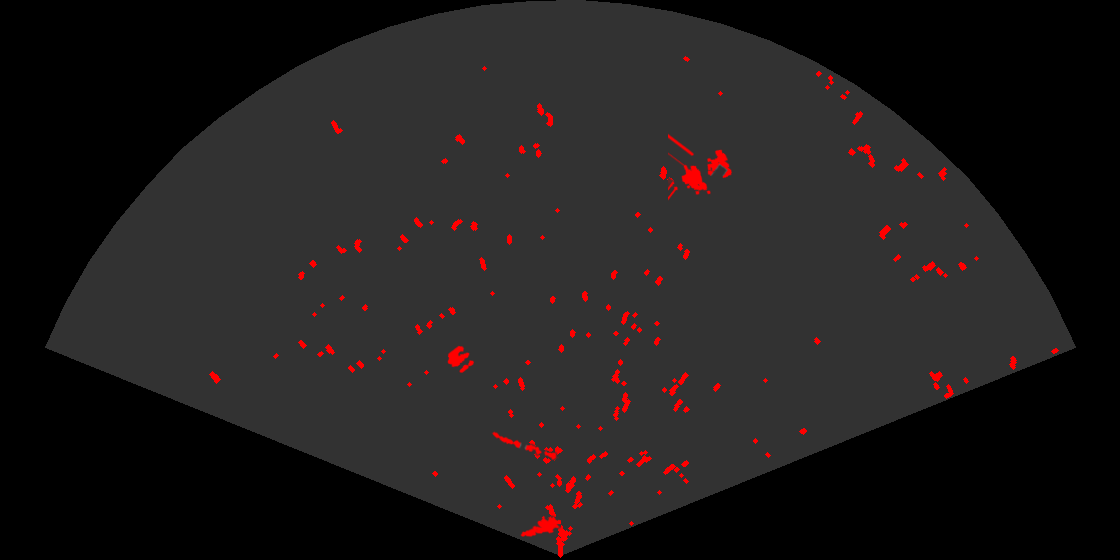ball: (446, 344, 476, 375)
cage: (668, 132, 734, 202)
chain: (490, 430, 559, 462)
frogman: (520, 514, 561, 539)
